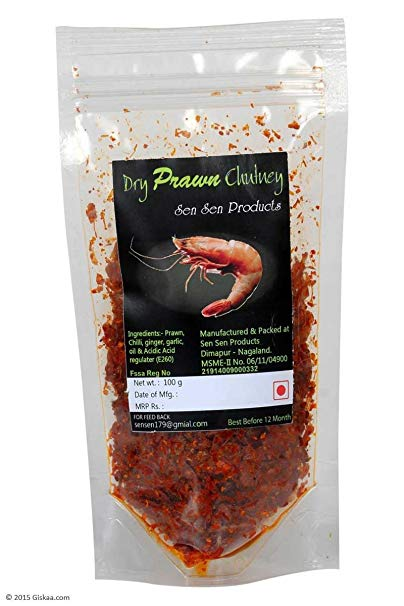nonveg_red: (272, 379, 291, 403)
